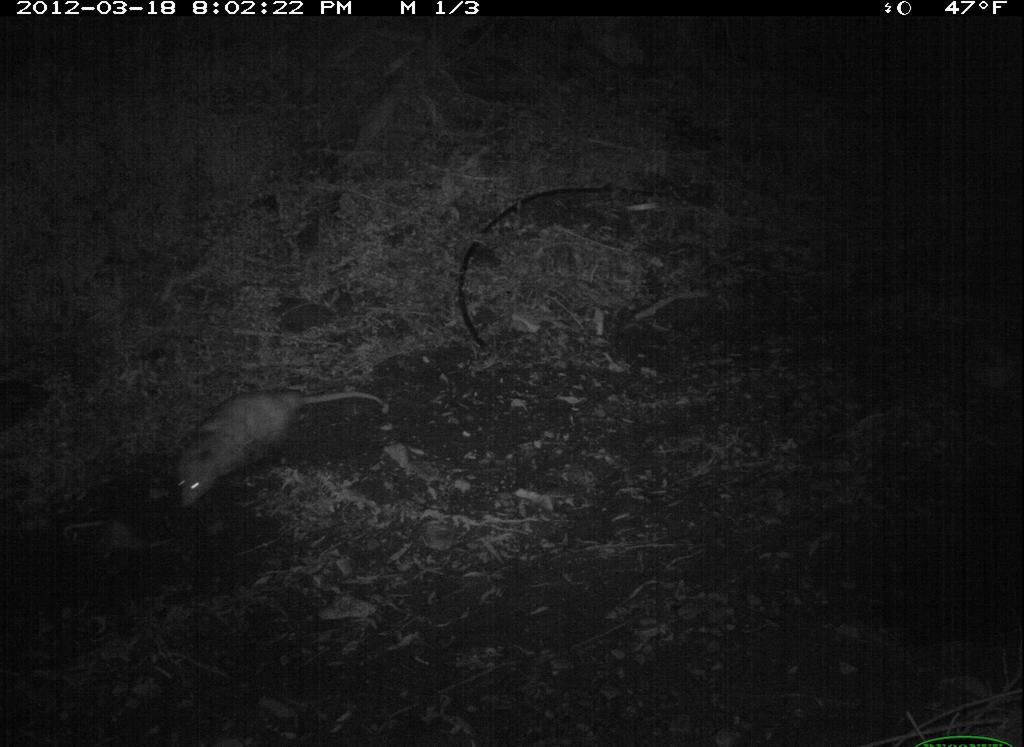opossum: (163, 379, 392, 518)
